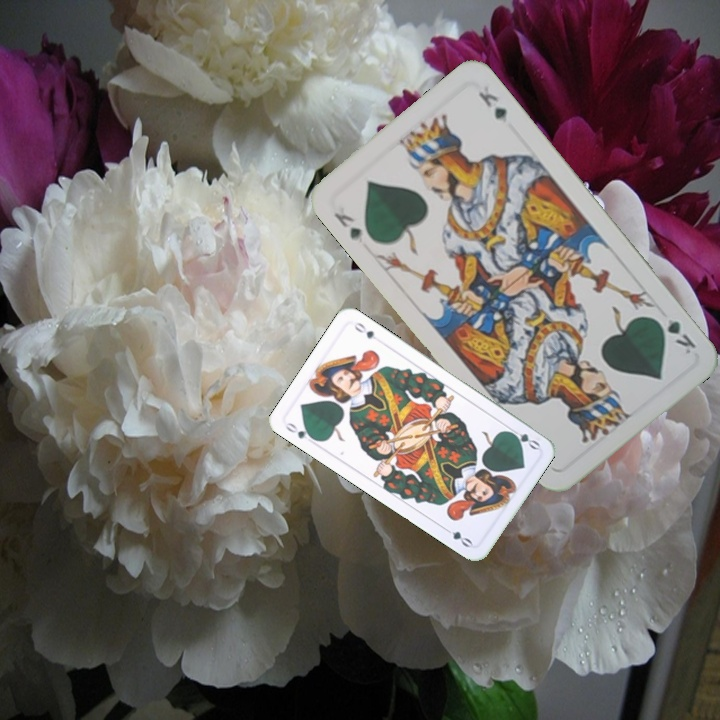GK: (650, 313, 699, 357), (329, 208, 365, 244)
GO: (503, 423, 542, 452), (281, 418, 319, 447)
